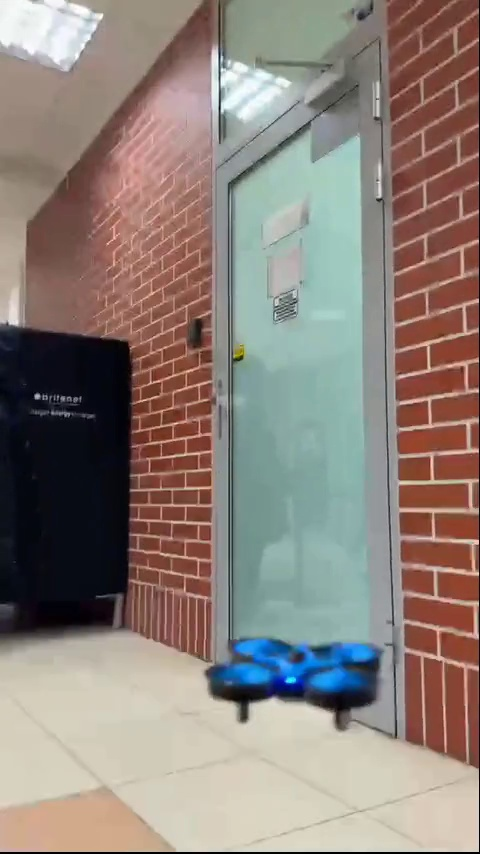drone: (209, 637, 394, 733)
